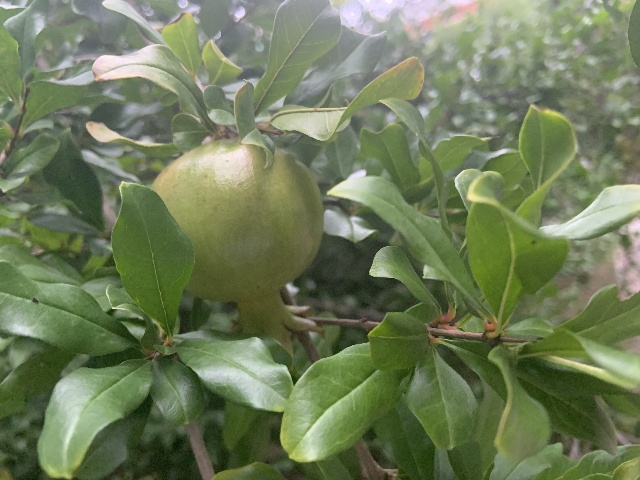mid-growth: (153, 137, 323, 355), (613, 129, 640, 166)
